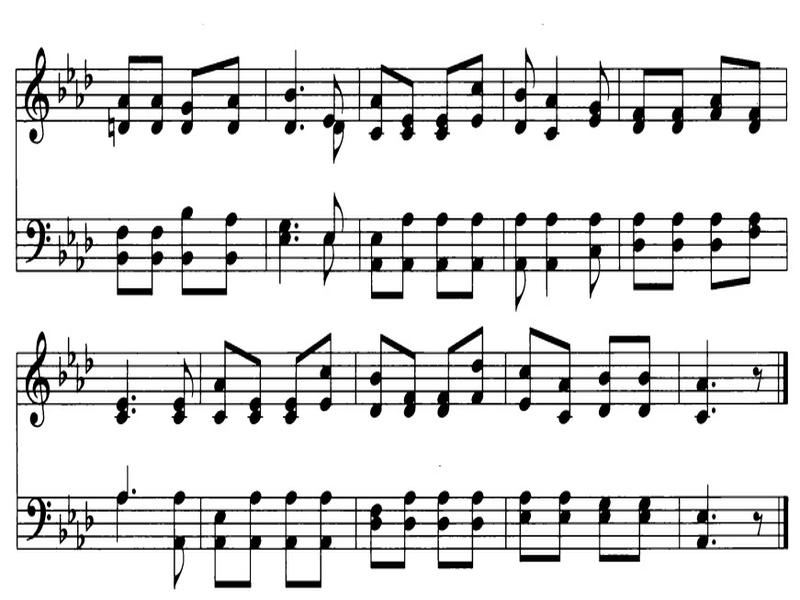Bem: (56, 354, 71, 397), (81, 498, 98, 533), (80, 224, 97, 256), (62, 487, 76, 525), (69, 80, 85, 112), (82, 343, 97, 374), (62, 340, 78, 367), (72, 525, 87, 553), (62, 54, 77, 81), (54, 233, 67, 263), (72, 247, 87, 273), (63, 216, 77, 243), (81, 61, 94, 90), (52, 76, 66, 100), (55, 516, 67, 544), (75, 367, 84, 394)
C: (314, 461, 345, 596), (238, 484, 269, 593), (629, 326, 663, 424), (739, 34, 767, 145), (116, 24, 143, 139), (461, 322, 494, 415), (546, 484, 581, 569), (393, 480, 424, 574), (504, 208, 531, 315), (365, 36, 391, 146), (428, 54, 459, 144), (462, 478, 491, 574), (575, 204, 603, 303), (508, 44, 537, 138), (593, 327, 621, 424), (586, 492, 622, 567), (308, 325, 339, 412), (169, 353, 198, 445), (392, 202, 416, 313), (211, 328, 236, 434), (218, 46, 248, 134), (700, 204, 727, 300), (429, 204, 453, 312), (217, 207, 242, 309), (630, 43, 657, 137), (174, 201, 198, 304), (207, 494, 232, 592), (667, 54, 695, 141), (627, 494, 660, 567), (357, 495, 387, 574), (556, 324, 577, 436), (277, 341, 304, 428), (284, 477, 304, 593), (740, 191, 762, 295), (364, 329, 390, 417), (517, 480, 541, 575), (665, 193, 686, 301), (466, 41, 490, 134), (587, 54, 616, 129), (140, 221, 166, 304), (314, 185, 349, 246), (107, 214, 132, 299), (146, 34, 167, 134), (433, 333, 455, 428), (517, 322, 539, 415), (705, 44, 728, 130), (465, 210, 486, 304), (245, 349, 269, 431), (395, 67, 419, 146), (181, 53, 203, 136), (362, 232, 385, 308), (402, 339, 420, 436), (627, 209, 644, 300), (437, 484, 454, 573), (325, 64, 348, 125), (165, 534, 189, 585), (316, 229, 336, 287), (335, 118, 347, 161)
CF: (21, 474, 54, 549), (21, 194, 52, 268)
CS: (20, 32, 53, 152), (19, 324, 54, 435)
N: (544, 47, 567, 141), (689, 332, 710, 426), (113, 350, 136, 431), (282, 47, 301, 141), (544, 200, 560, 301), (270, 213, 291, 289), (695, 478, 711, 557), (109, 487, 128, 545), (168, 483, 190, 529)
P: (710, 405, 725, 422), (127, 407, 142, 421), (710, 537, 726, 550), (297, 124, 309, 135), (292, 234, 303, 245), (298, 85, 308, 94), (131, 486, 140, 496), (711, 511, 721, 520), (132, 394, 138, 407), (711, 379, 716, 391), (292, 223, 301, 229)
SN: (746, 363, 772, 396), (744, 505, 769, 536)
SOS: (102, 104, 117, 149)
